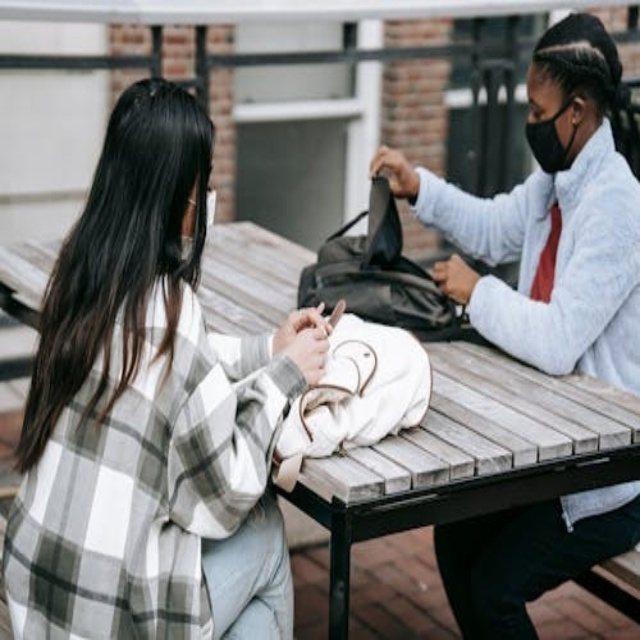Mascara: (526, 96, 584, 174), (203, 188, 217, 245)
Sin_gafas: (525, 81, 557, 121)
Sin_guantes: (279, 297, 346, 389), (365, 136, 421, 209), (427, 251, 480, 308)
